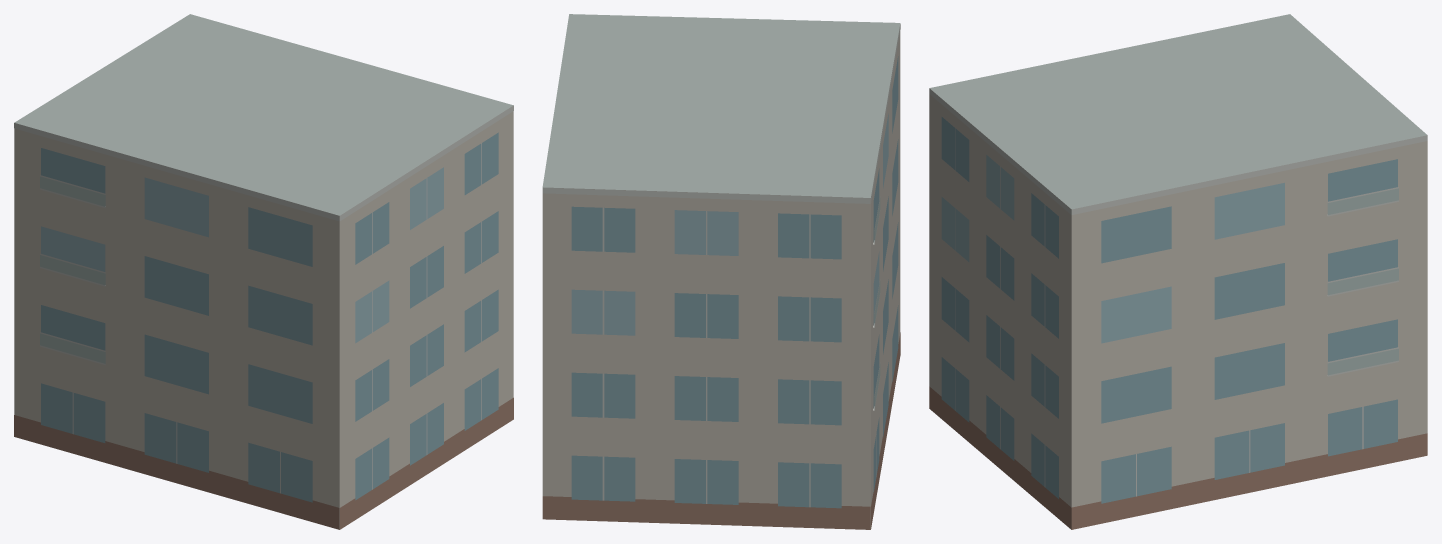
Rendered from survey-upis-32990887.glb.
3 renders of one model, left to right at view 1: azimuth 30°, elevation 25°; view 2: azimuth 150°, elevation 25°; view 3: azimuth 270°, elevation 25°, orthographic. The views are drawn at different scales.
Visible parts, largest first — view 1: survey-upis-32990887.tmp; view 2: survey-upis-32990887.tmp; view 3: survey-upis-32990887.tmp.
Part boxes in pixels (<box>): survey-upis-32990887.tmp: <box>14,14,513,529</box>; survey-upis-32990887.tmp: <box>542,14,900,529</box>; survey-upis-32990887.tmp: <box>929,14,1427,529</box>.
Size of the model in its own units: 17.8 by 13.6 by 19.18.
